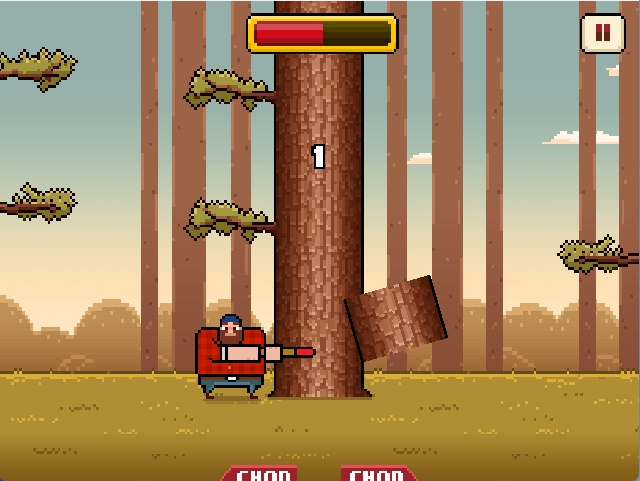left_obs: (175, 60, 279, 120), (180, 192, 278, 252)
timberman: (189, 312, 320, 404)
